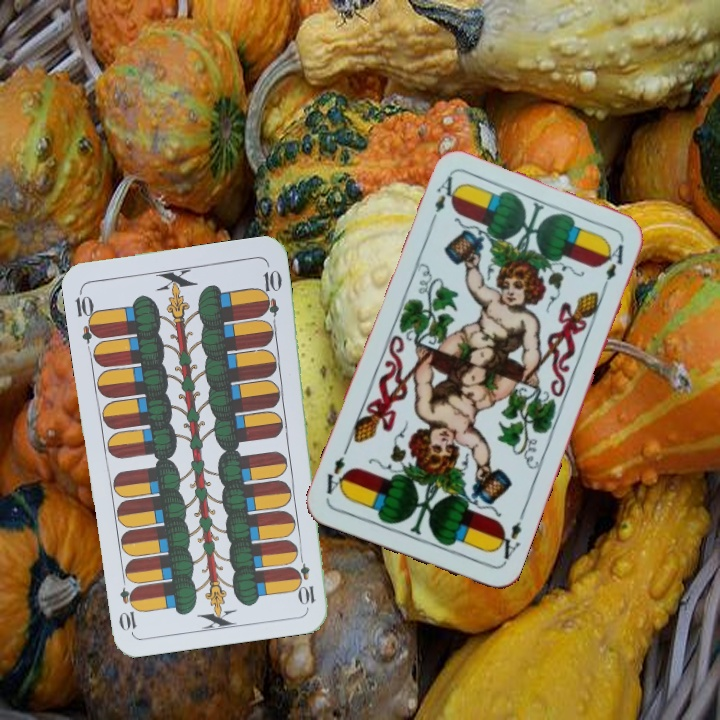E10: (71, 286, 103, 345), (293, 548, 318, 608)
EA: (425, 172, 459, 228), (490, 517, 525, 566)
